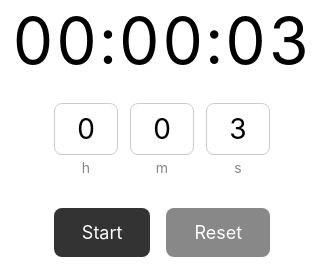
TimerScreen › completion › shows completion message when timer reaches zero
Click the element with test id "start-button". click: click(102, 232)
box: [54,208,150,256]
Wait 3000 ms
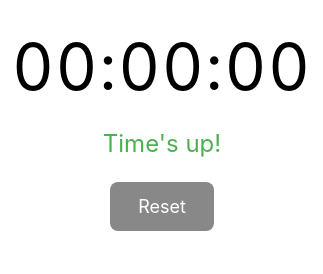
Check: the text "Time's up!" is shown, box [103,128,221,158]
